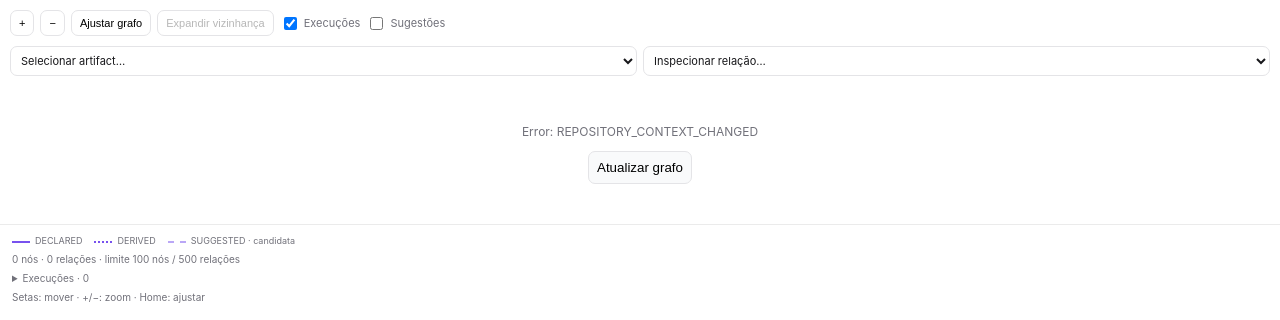
uses honest empty/error states and retries without retaining stale graph content
Expected: the message shows "REPOSITORY_CONTEXT_CHANGED", x1=522 y1=124 x2=758 y2=139
What coordinates should you click on to do the following:
click the button "Atualizar grafo"
I would click on:
 (640, 168)
Its box is x1=588 y1=151 x2=692 y2=184.
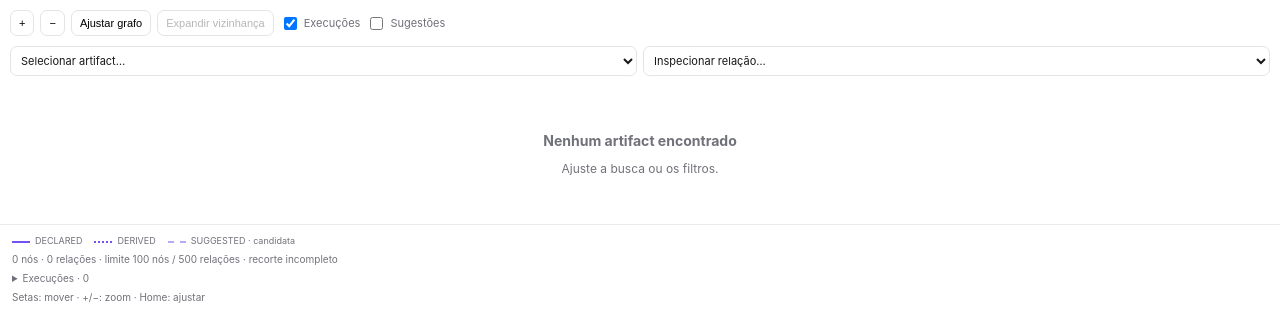
Expected: the heading "Nenhum artifact encontrado" is shown, x1=543 y1=132 x2=737 y2=149
